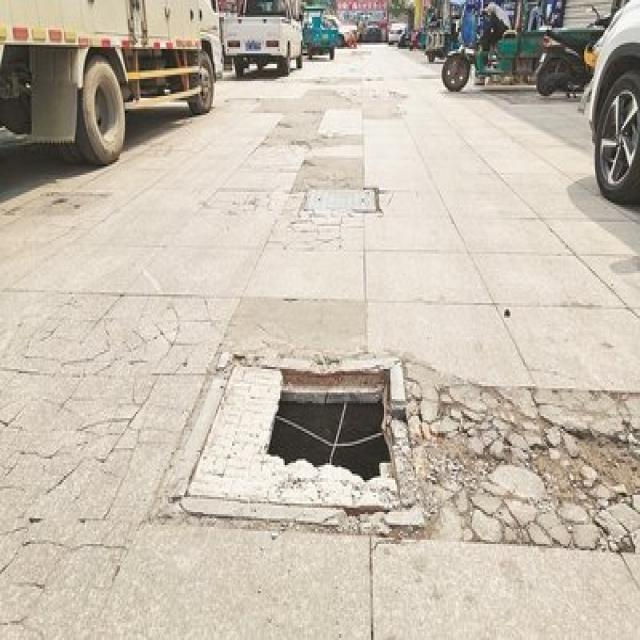manhole: (179, 346, 429, 533)
